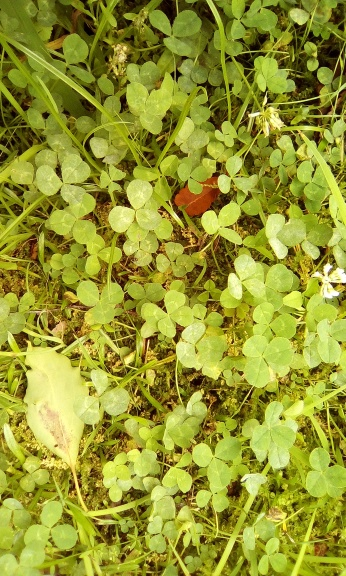4leaf: (142, 290, 194, 337)
